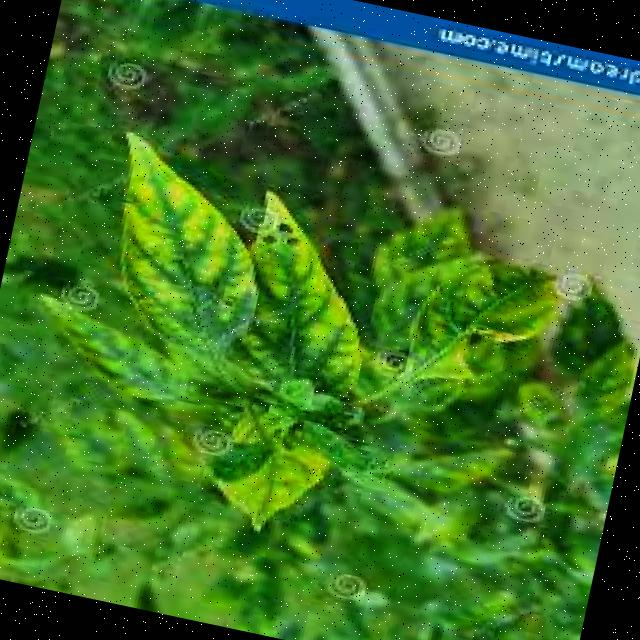yellow: (0, 111, 607, 605)
